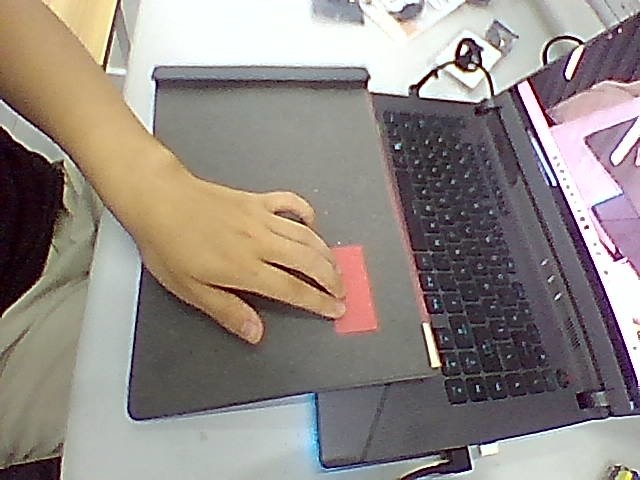card: (334, 244, 378, 334)
